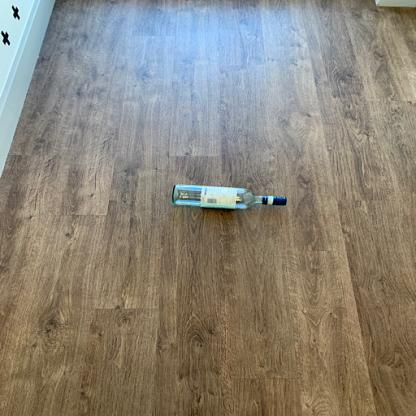trash: (168, 183, 288, 212)
